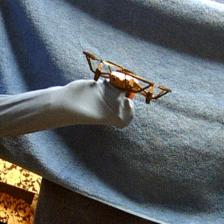drone: (85, 51, 172, 106)
